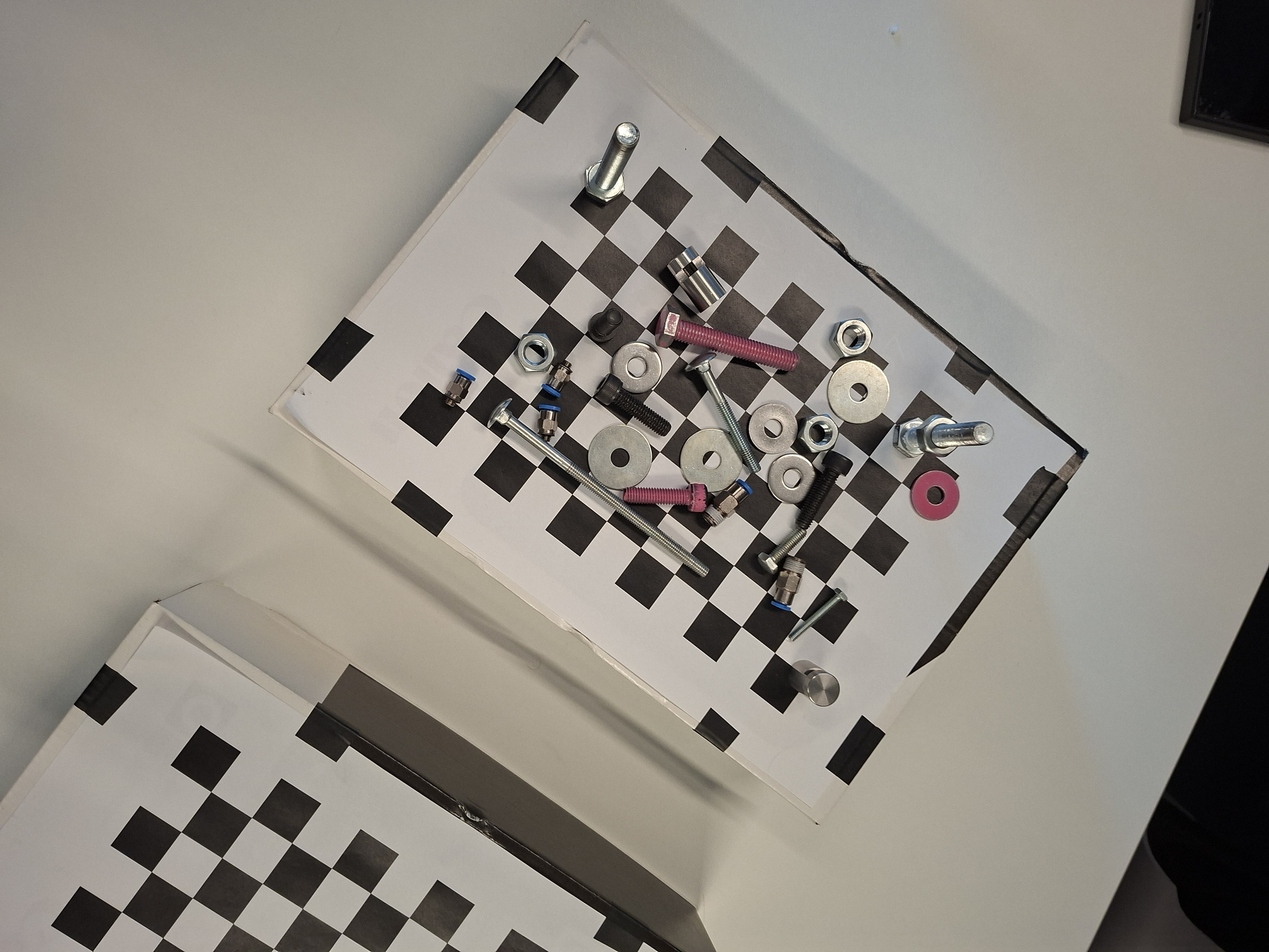allen_screw: (588, 369, 679, 444), (785, 444, 856, 535), (619, 480, 709, 514), (581, 301, 632, 349)
barrel_nut: (659, 239, 733, 318), (776, 651, 849, 715)
carriage_bolt: (474, 386, 722, 594), (678, 348, 775, 484)
hex_bolt: (648, 300, 805, 386), (573, 110, 658, 213), (890, 409, 1000, 462), (782, 582, 850, 650), (747, 520, 814, 581)
hex_nut: (912, 407, 970, 465), (823, 312, 879, 363), (791, 408, 843, 458), (510, 330, 562, 377)
pneumatic_fitting: (694, 472, 759, 536), (764, 552, 811, 618), (434, 363, 484, 418), (536, 351, 581, 403), (534, 402, 565, 443)
washer: (668, 412, 761, 504), (814, 349, 900, 435), (579, 415, 662, 497), (759, 446, 821, 510), (909, 465, 964, 525), (609, 340, 664, 399), (743, 402, 801, 456)
